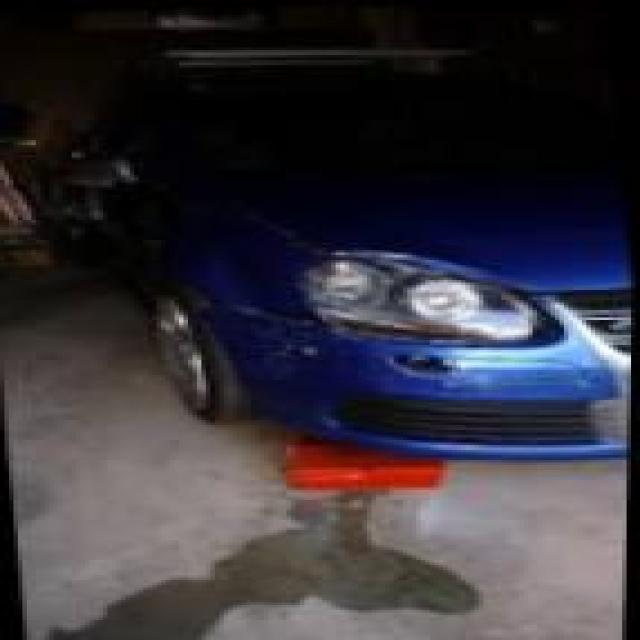Bumper: (291, 335, 467, 407)
